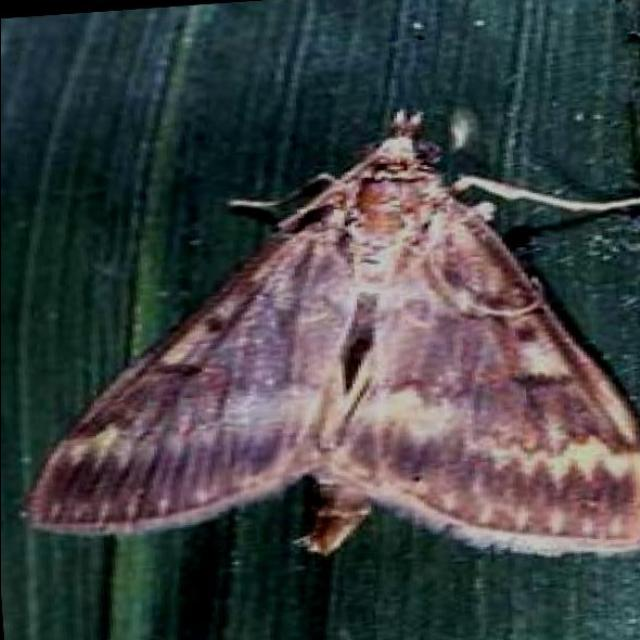stem borer: (22, 111, 640, 555)
